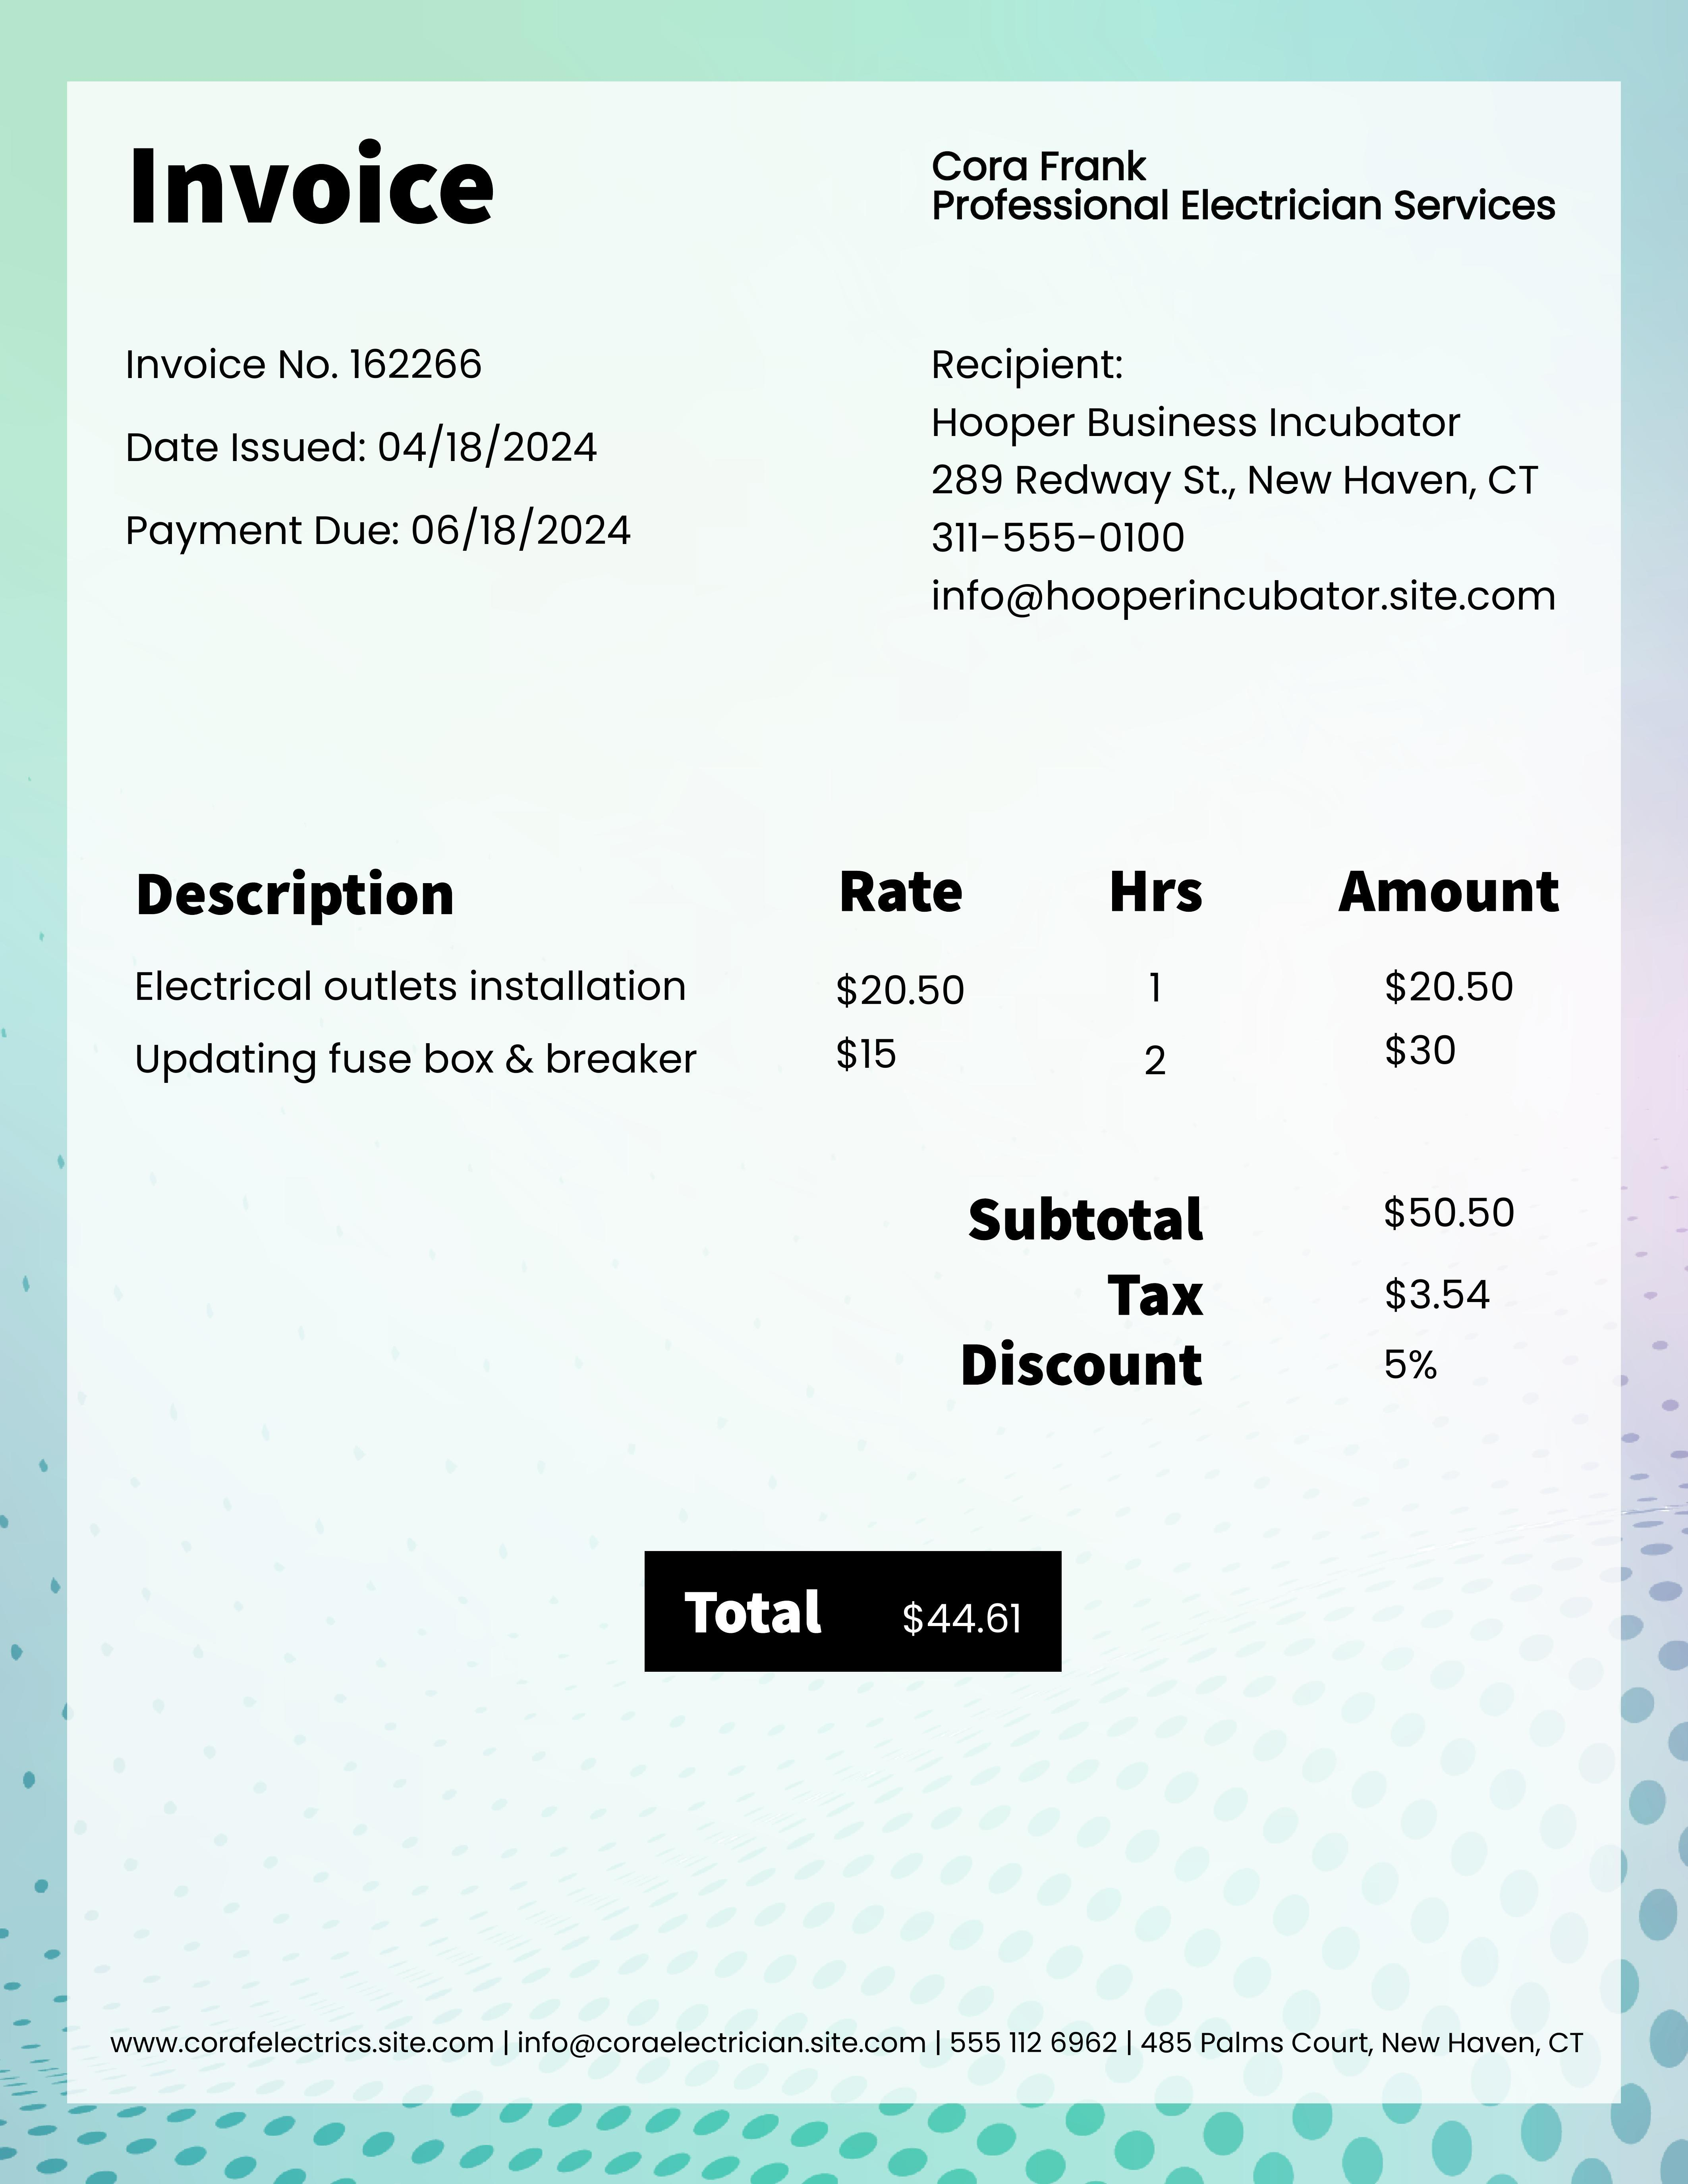ROI: (626, 1165, 1515, 1695), (117, 847, 1585, 1094), (922, 339, 1579, 634), (112, 337, 682, 575), (916, 133, 1568, 249)
